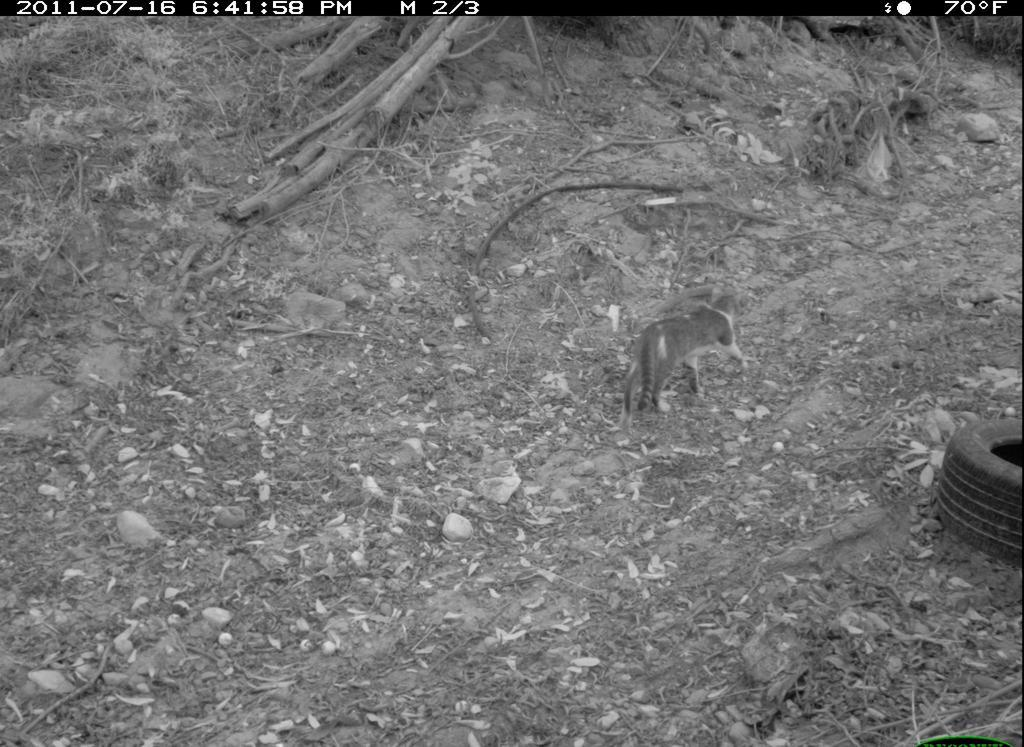cat: (624, 289, 753, 423)
